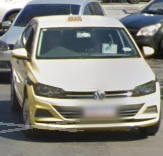car: (11, 13, 161, 139)
